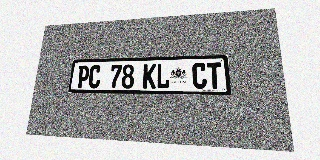7: (109, 65, 122, 88)
8: (121, 64, 135, 88)
C: (192, 63, 207, 89), (88, 65, 101, 88)
K: (143, 64, 156, 88)
L: (156, 63, 170, 89)
P: (76, 65, 90, 88)
T: (207, 62, 223, 89)
